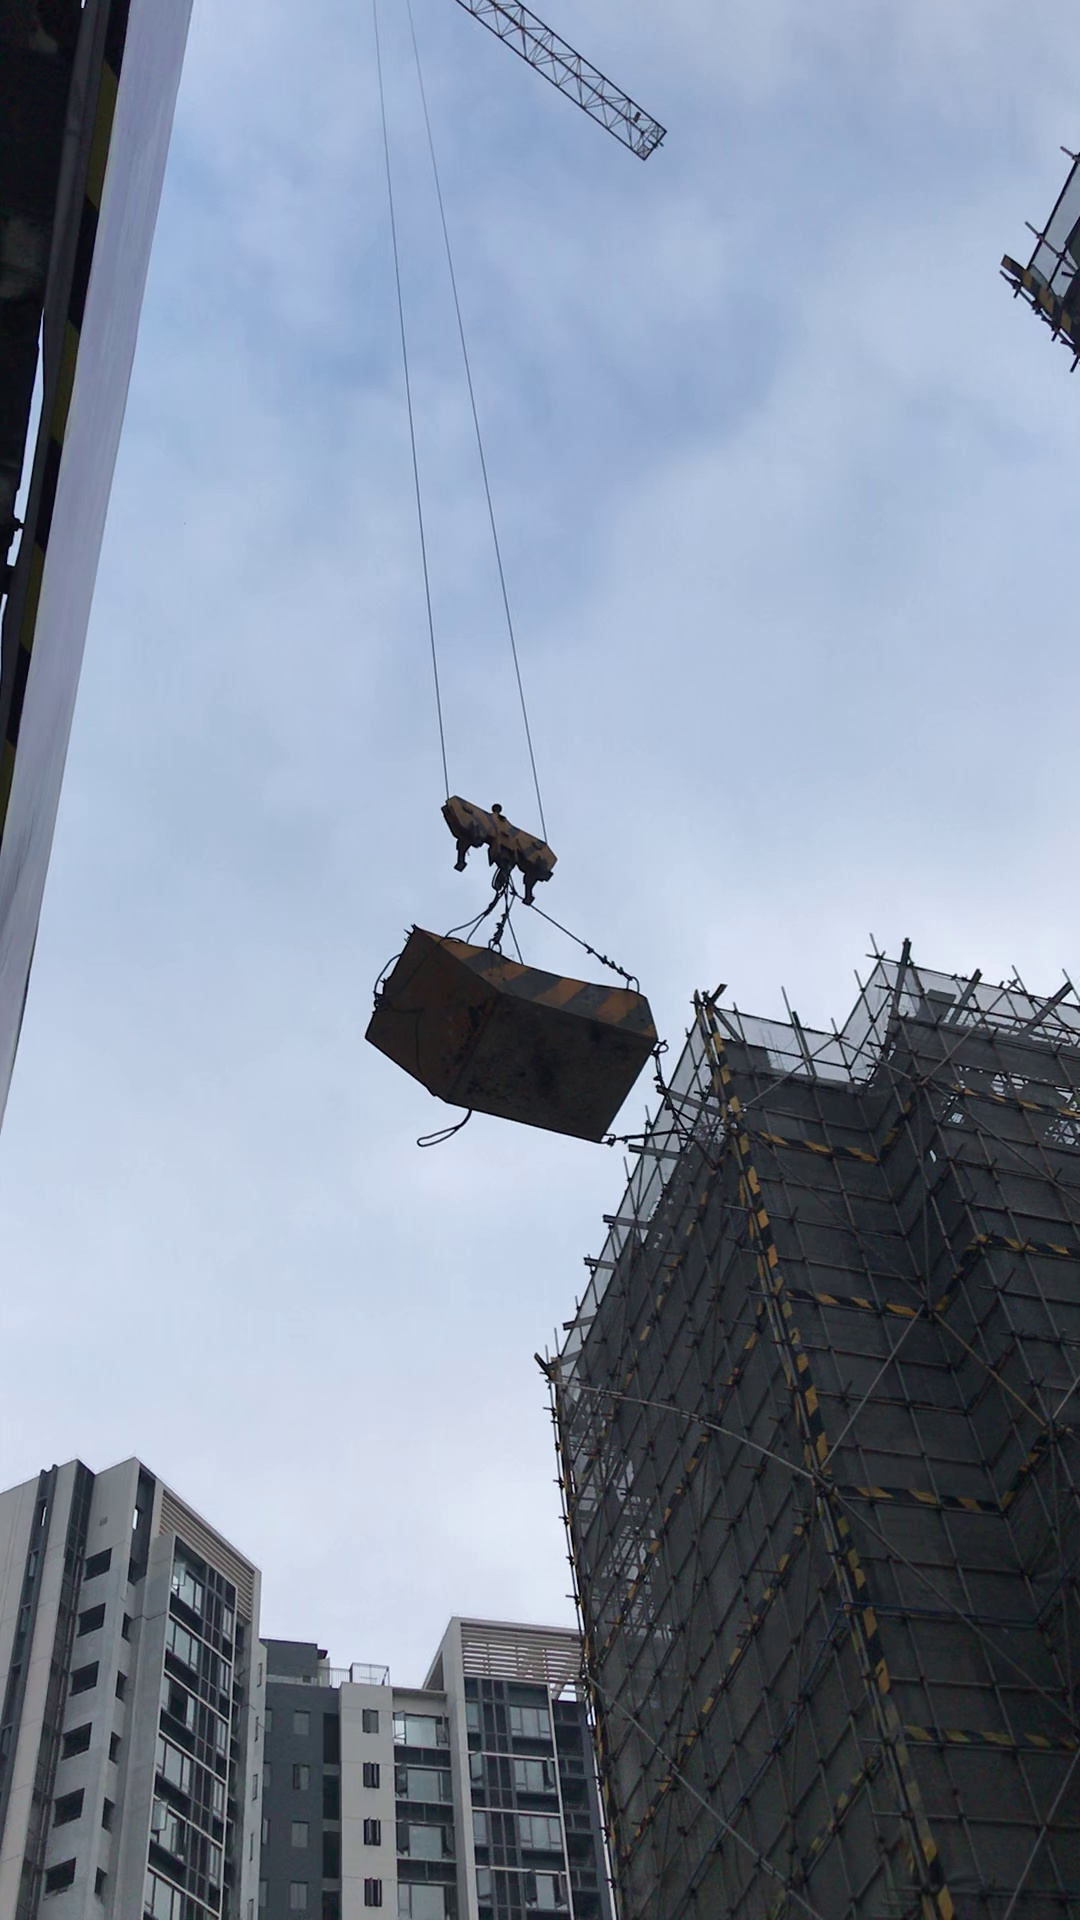hook: (439, 795, 555, 905)
